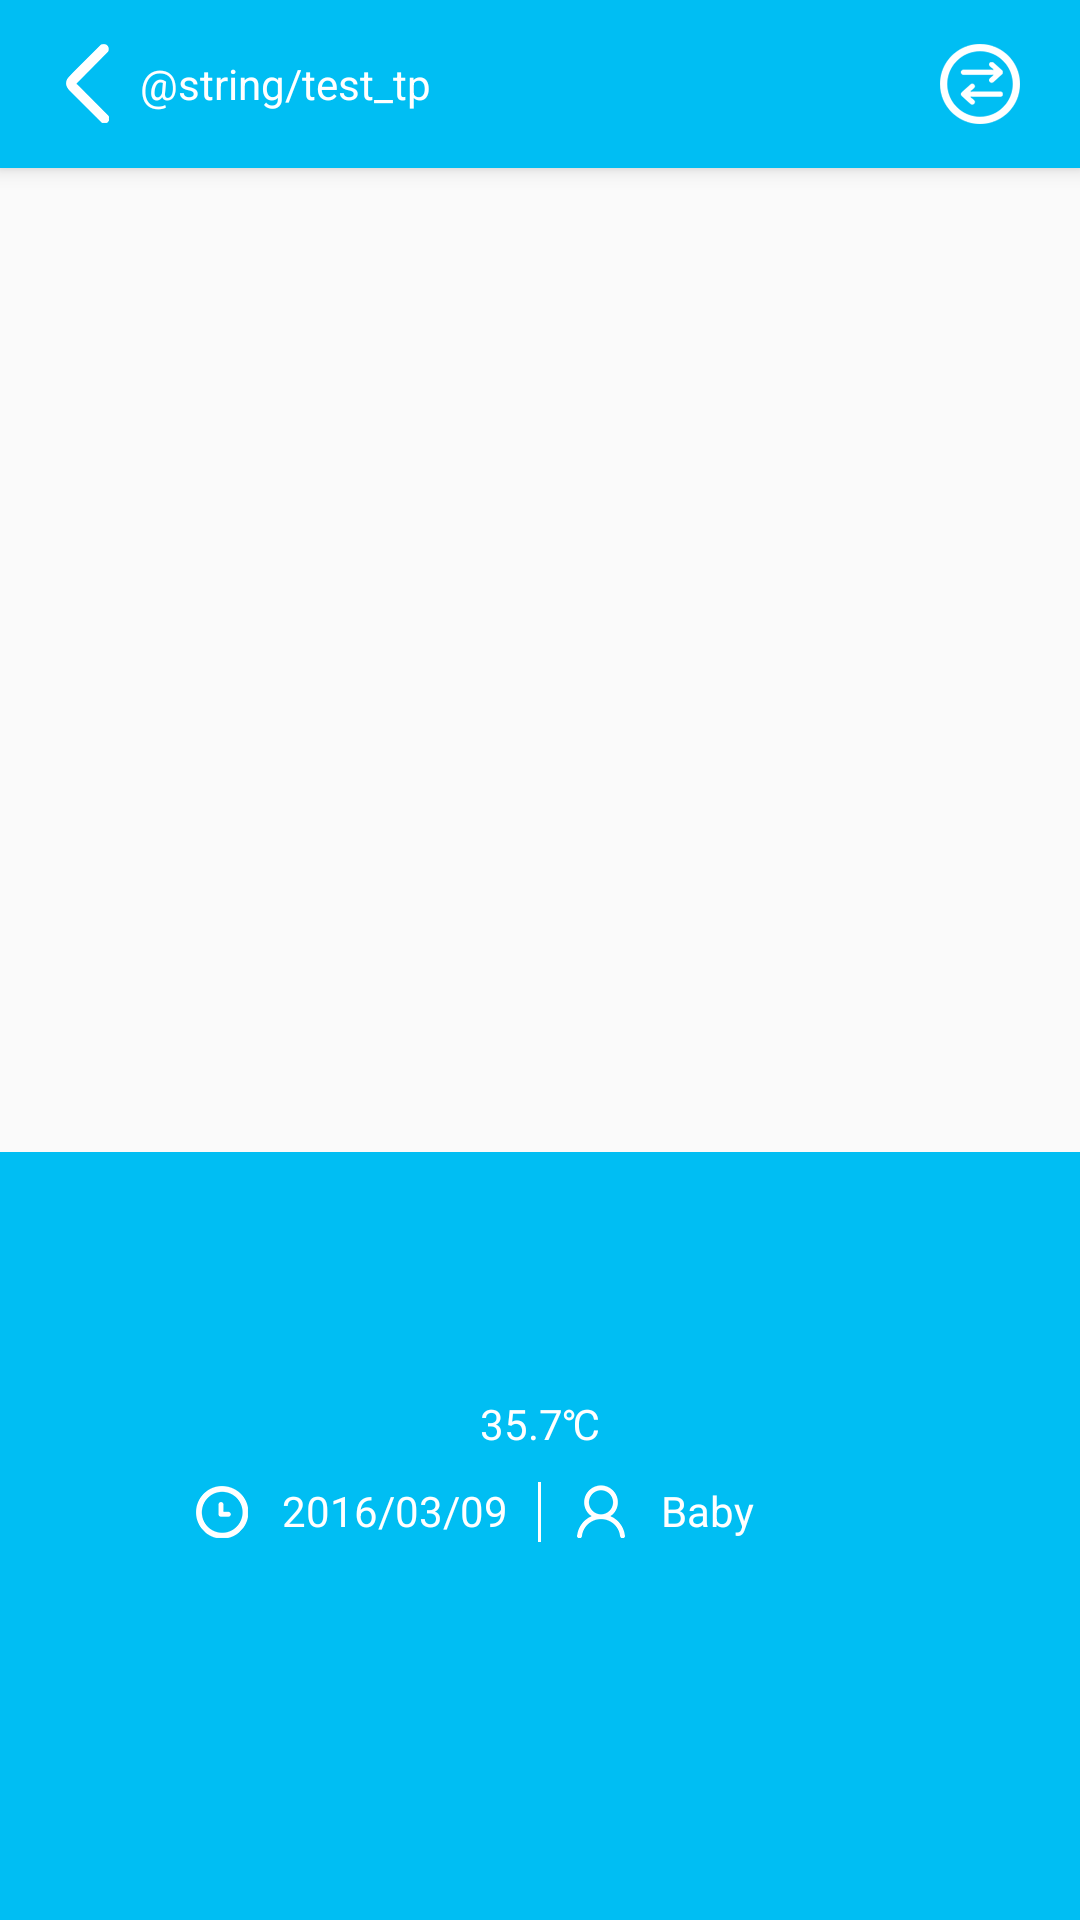

Where icons sit on this 1080 x 1920 app screen, as (x1=x1, y1=y1, x2=x2, y2=y2):
change user: (x1=940, y1=44, x2=1020, y2=124)
time: (x1=196, y1=1486, x2=248, y2=1538)
user: (x1=577, y1=1485, x2=625, y2=1538)
